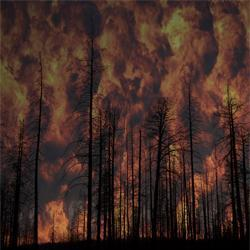fire: (165, 13, 227, 61), (39, 205, 67, 240)
